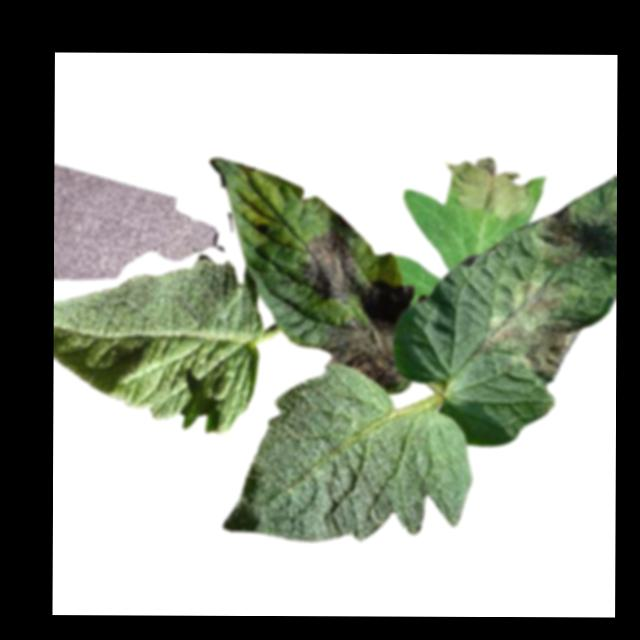Late_blight: (304, 231, 415, 322), (486, 318, 582, 382), (440, 155, 531, 220), (324, 321, 401, 389), (526, 203, 584, 266), (510, 279, 568, 319)
healthy: (221, 362, 472, 543), (54, 255, 263, 439)
